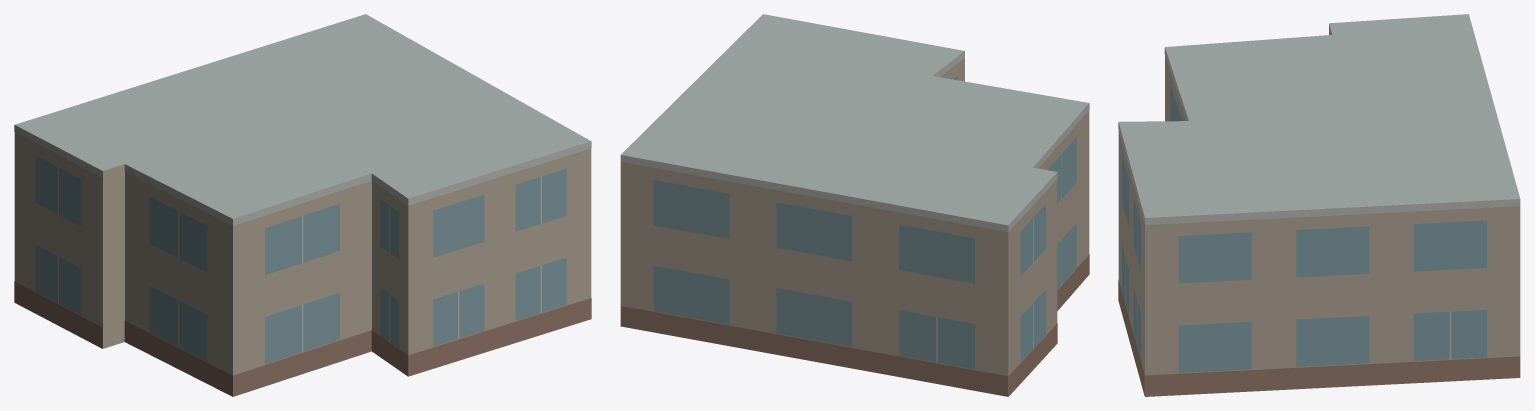
File: survey-upis-32906734.glb
3 views of the same model, side by side, from view 1: azimuth 30°, elevation 25°; view 2: azimuth 150°, elevation 25°; view 3: azimuth 270°, elevation 25° (orthographic). The views are drawn at different scales.
Parts seen in each view (by area): view 1: survey-upis-32906734.tmp; view 2: survey-upis-32906734.tmp; view 3: survey-upis-32906734.tmp.
Boxes of the visible parts, x1,y1,x2,y2 form: survey-upis-32906734.tmp: (14,14,591,396); survey-upis-32906734.tmp: (620,14,1089,396); survey-upis-32906734.tmp: (1118,14,1520,396).
Bounding box in the file's own units: 14.93 × 6.1 × 12.43.
